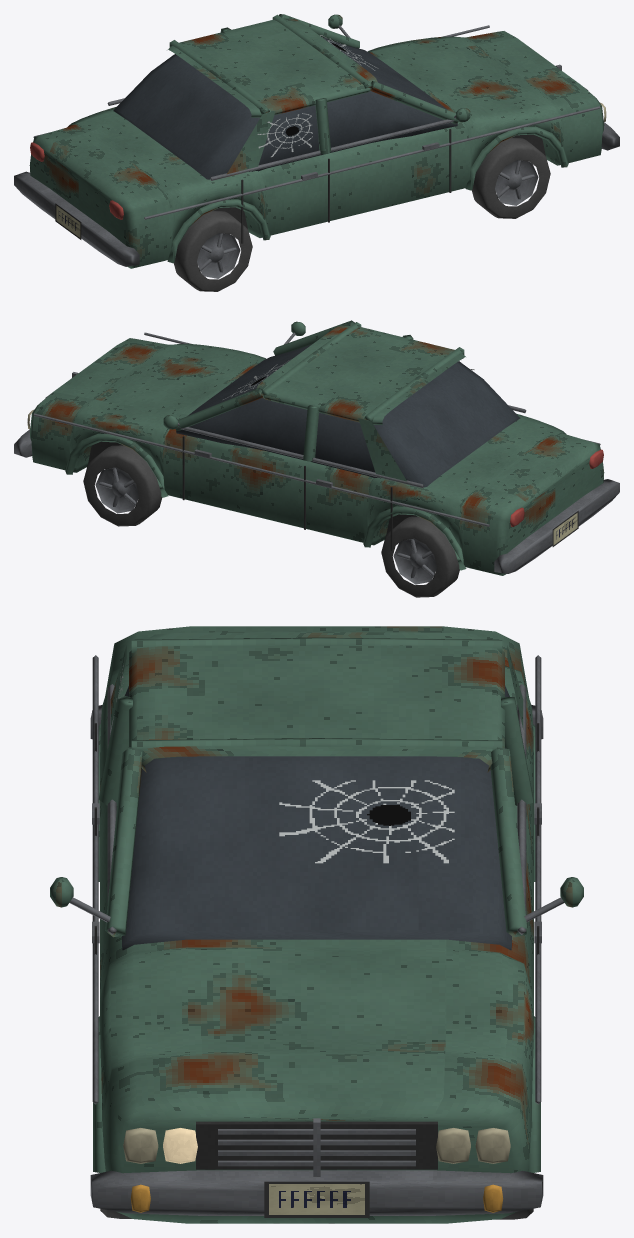
The model's file is car_wreck.glb.
3 views of the same model, one above another, from view 1: azimuth 30°, elevation 25°; view 2: azimuth 150°, elevation 25°; view 3: azimuth 270°, elevation 25° (orthographic). The views are drawn at different scales.
Parts seen in each view (by area): view 1: detail; view 2: detail; view 3: detail.
Part boxes in pixels (box(x1,y1,x2,y2)): detail: box(14, 14, 619, 291); detail: box(14, 320, 619, 597); detail: box(50, 626, 583, 1223).
Size of what is drawn, in the model's own units: 4.6 by 1.48 by 2.14.
Materials: 11 (11 with a texture image).
